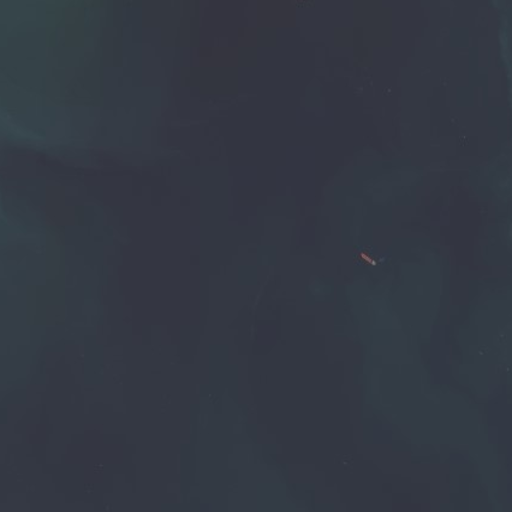ship: (356, 249, 379, 269)
